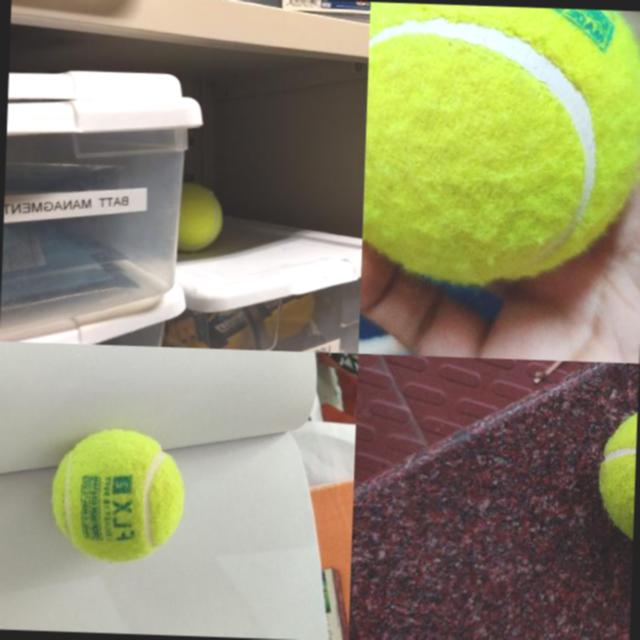Tennis Ball: (362, 1, 640, 286), (48, 426, 186, 564), (596, 399, 638, 550), (180, 182, 224, 254)
